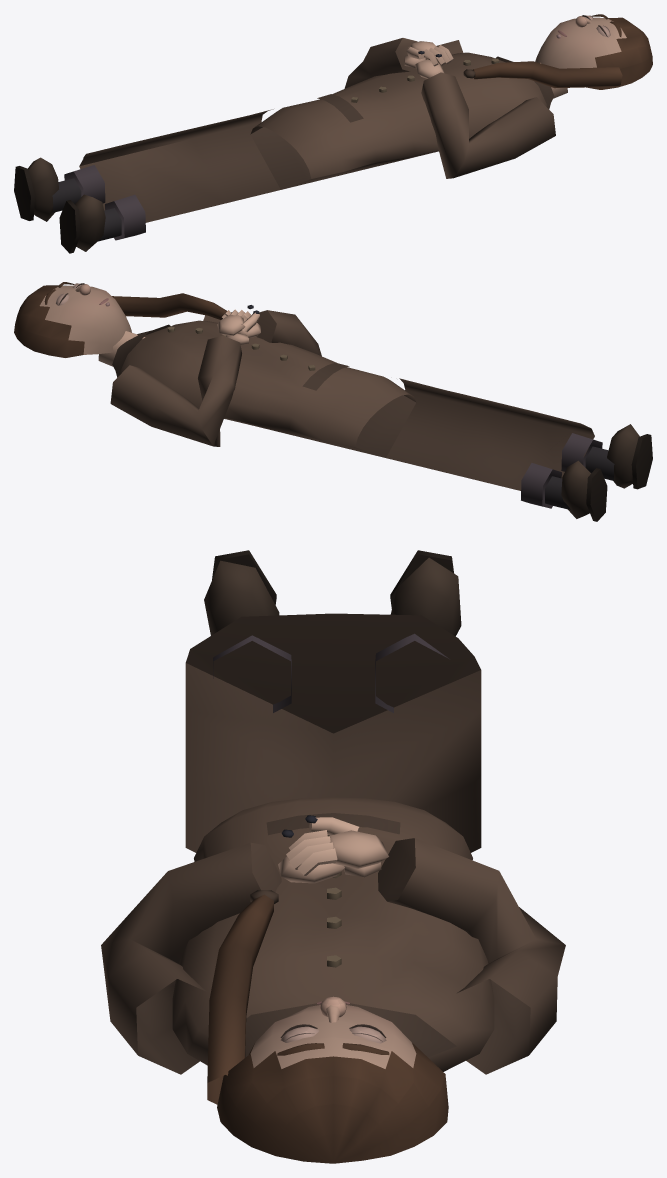
File: ph_prop_corpse_06.glb
3 renders of one model, top to bottom at view 1: azimuth 30°, elevation 25°; view 2: azimuth 150°, elevation 25°; view 3: azimuth 270°, elevation 25°, orthographic. The views are drawn at different scales.
Parts seen in each view (by area): view 1: ph_prop_corpse_06; view 2: ph_prop_corpse_06; view 3: ph_prop_corpse_06.
Boxes of the visible parts, left/top/right/bottom form: ph_prop_corpse_06: left=14, top=14, right=652, bottom=253; ph_prop_corpse_06: left=14, top=282, right=652, bottom=521; ph_prop_corpse_06: left=101, top=550, right=565, bottom=1163.
Size of the model in its own units: 1.72 by 0.2985 by 0.5724.
